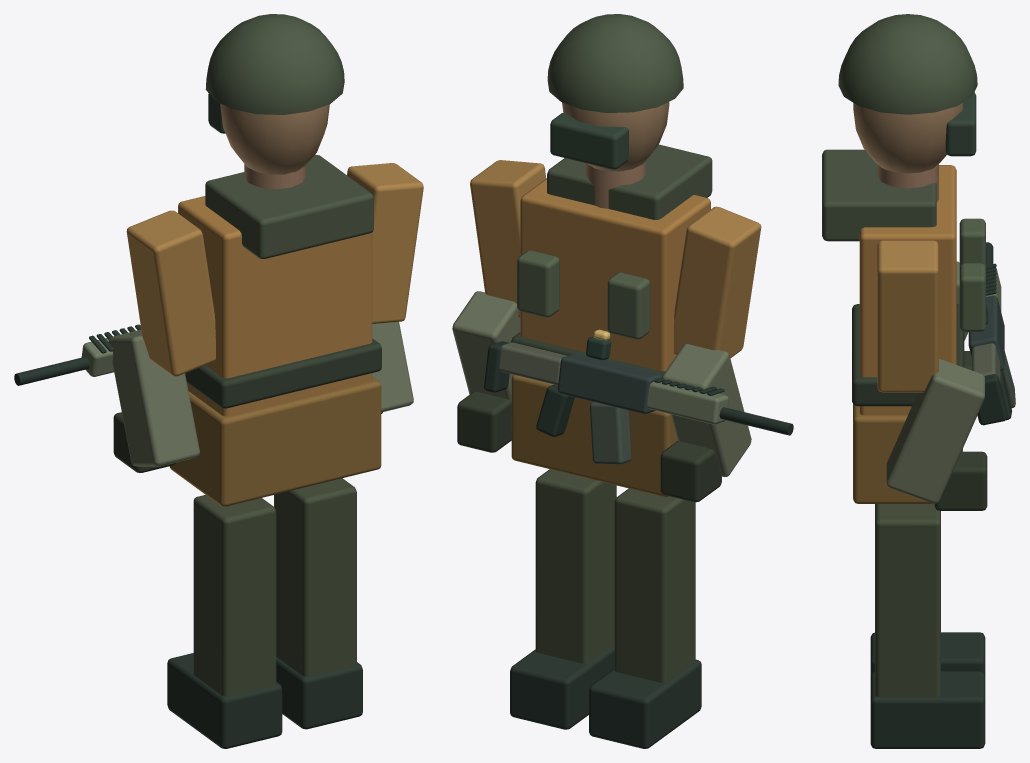
File: SM_Cosecha_Sentry_01.glb
3 views of the same model, side by side, from view 1: azimuth 30°, elevation 25°; view 2: azimuth 150°, elevation 25°; view 3: azimuth 270°, elevation 25° (orthographic).
Parts seen in each view (by area): view 1: SM_Cosecha_Sentry_01; view 2: SM_Cosecha_Sentry_01; view 3: SM_Cosecha_Sentry_01.
Part boxes in pixels (x1,y1,x2,y2): SM_Cosecha_Sentry_01: [14, 14, 423, 748]; SM_Cosecha_Sentry_01: [452, 14, 793, 748]; SM_Cosecha_Sentry_01: [822, 14, 1015, 748].
Size of the model in its own units: 0.9199 by 1.74 by 0.4396.
